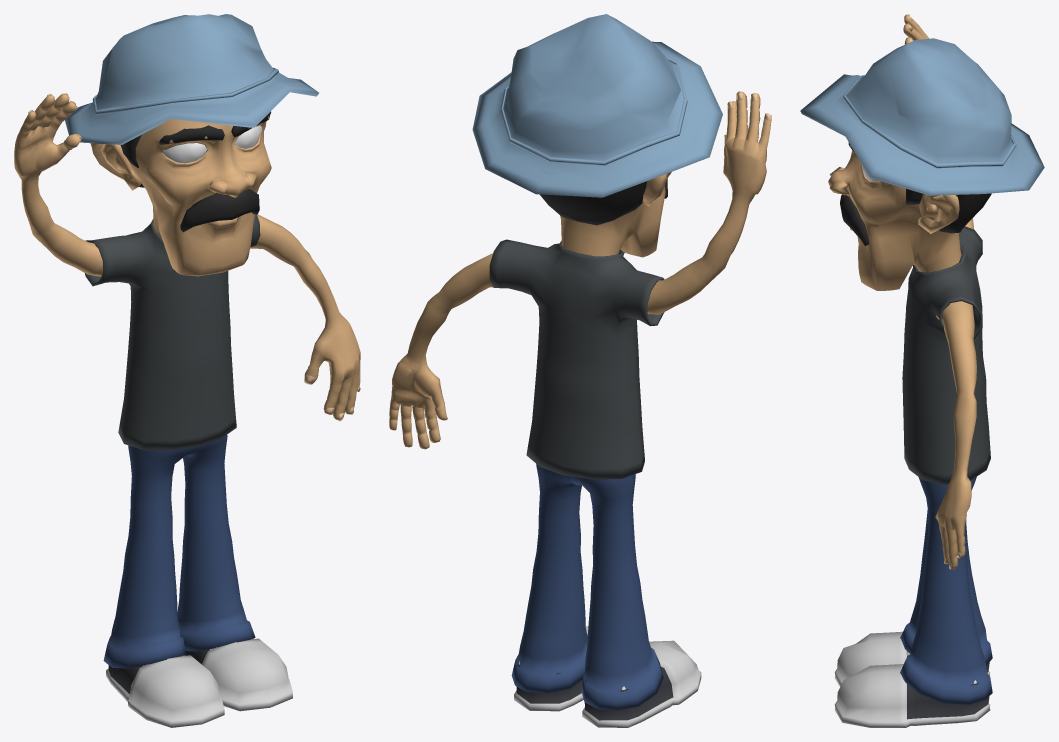
Rendered from man.glb.
3 views of the same model, side by side, from view 1: azimuth 30°, elevation 25°; view 2: azimuth 150°, elevation 25°; view 3: azimuth 270°, elevation 25° (orthographic). The views are drawn at different scales.
Visible parts, largest first — view 1: Jeans, T-shirt, Hat, Head, Arm_R, Arm_L, Shoe_R, Shoe_L, Mustache, Brow_R, Eye_R; view 2: Hat, T-shirt, Jeans, Arm_R, Arm_L, Head, Shoe_R, Hair, Shoe_L; view 3: Hat, T-shirt, Jeans, Head, Arm_L, Shoe_L, Shoe_R, Hair, Mustache, Arm_R.
Part boxes in pixels (x1,y1,x2,y2): Jeans: [103, 435, 255, 668]; T-shirt: [84, 214, 260, 450]; Hat: [65, 14, 318, 144]; Head: [90, 116, 271, 276]; Arm_R: [14, 93, 103, 276]; Arm_L: [250, 214, 360, 421]; Shoe_R: [106, 638, 224, 727]; Shoe_L: [185, 638, 292, 711]; Mustache: [180, 189, 259, 232]; Brow_R: [159, 125, 224, 144]; Eye_R: [162, 143, 207, 163]; Hat: [472, 14, 722, 197]; T-shirt: [489, 239, 664, 479]; Jeans: [511, 464, 663, 710]; Arm_R: [647, 91, 771, 314]; Arm_L: [389, 253, 492, 449]; Head: [560, 172, 671, 257]; Shoe_R: [582, 640, 701, 727]; Hair: [539, 181, 647, 225]; Shoe_L: [514, 626, 588, 711]; Hat: [800, 38, 1044, 195]; T-shirt: [902, 226, 990, 484]; Jeans: [900, 476, 992, 704]; Head: [828, 145, 961, 290]; Arm_L: [935, 301, 976, 569]; Shoe_L: [834, 664, 990, 727]; Shoe_R: [834, 631, 990, 686]; Hair: [905, 188, 991, 233]; Mustache: [840, 194, 868, 246]; Arm_R: [903, 14, 973, 229].
Bounding box in the file's own units: 3.78 × 6.74 × 2.3.
